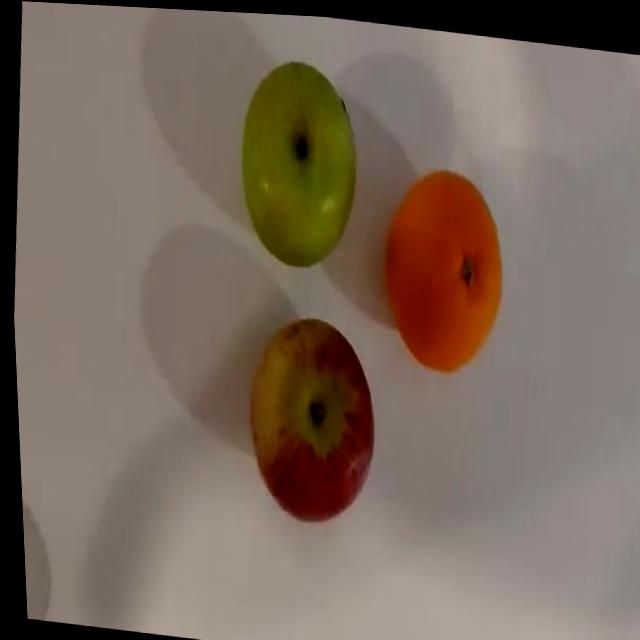Apple: (235, 307, 382, 525), (229, 50, 367, 270)
Orange: (371, 155, 512, 374)
